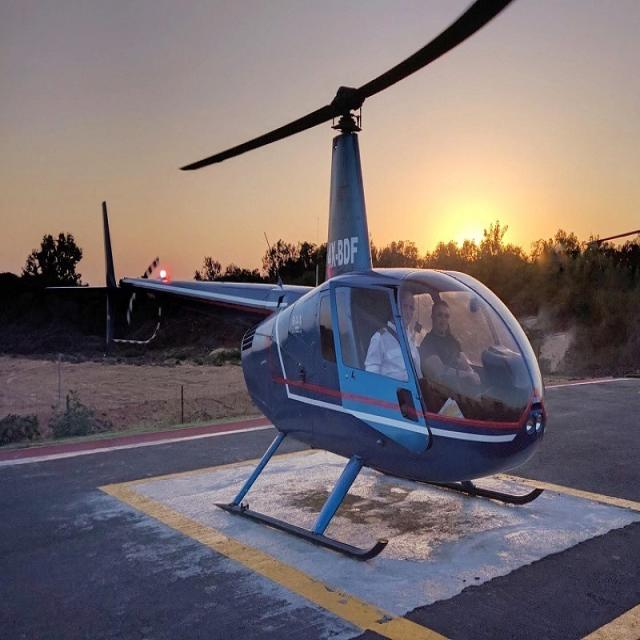CIV_HELO: (51, 83, 552, 564)
